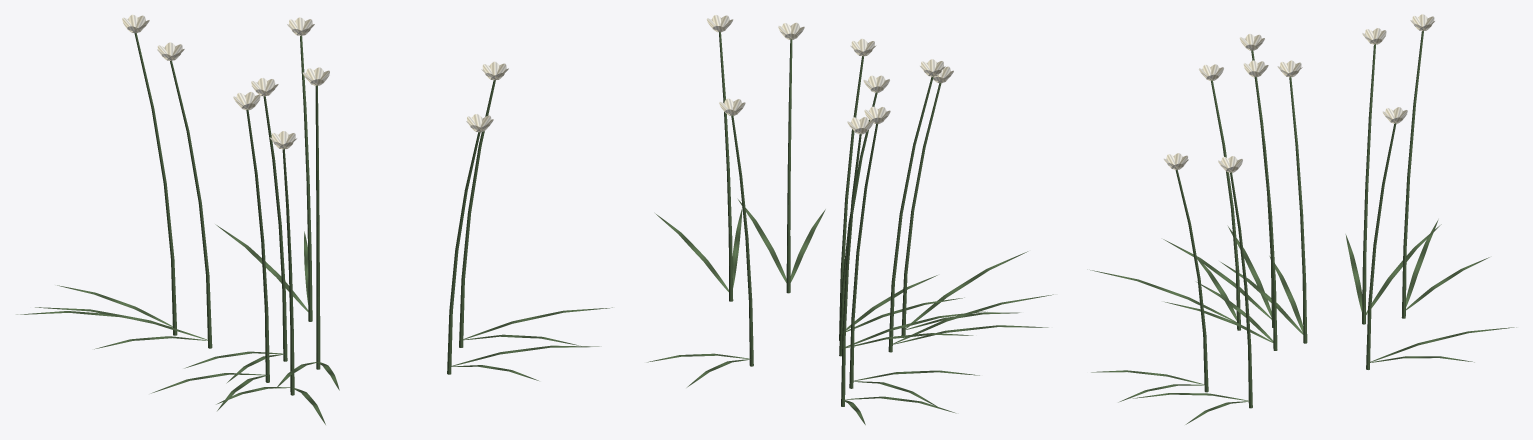
File: cotton_grass_v01.glb
The picture shows the model from 3 angles, left to right: view 1: azimuth 30°, elevation 25°; view 2: azimuth 150°, elevation 25°; view 3: azimuth 270°, elevation 25°; orthographic projection. The views are drawn at different scales.
Visible parts, largest first — view 1: cotton_grass_v01; view 2: cotton_grass_v01; view 3: cotton_grass_v01.
Part boxes in pixels (x1,y1,x2,y2): cotton_grass_v01: (16, 14, 612, 424); cotton_grass_v01: (646, 15, 1053, 425); cotton_grass_v01: (1087, 14, 1516, 424).
Size of the model in its own units: 0.6953 by 0.4513 by 0.6196.
Materials: 3 (3 with a texture image).
